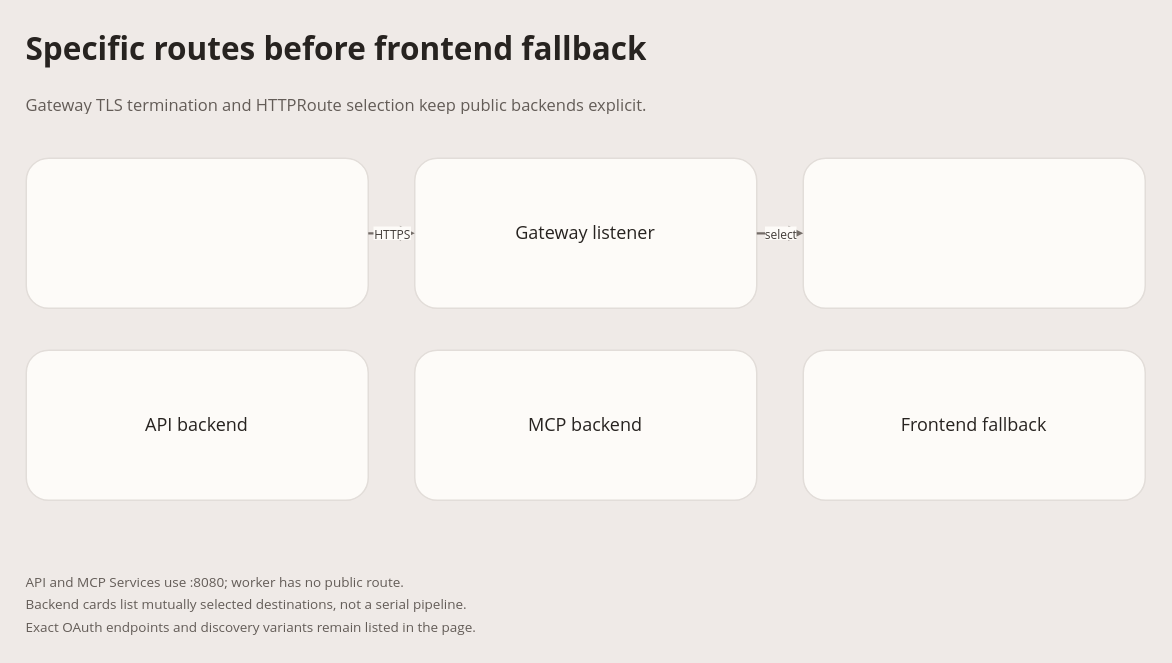
Image size: 1172x663. Some labels were removed from this diagram. The shapes that lost their labels are listed below. From the top down, each one's box as (x1, y1, x2, y2) in pixels, then its label:
(25, 157, 368, 308): Public client
(802, 157, 1145, 308): HTTPRoute match
